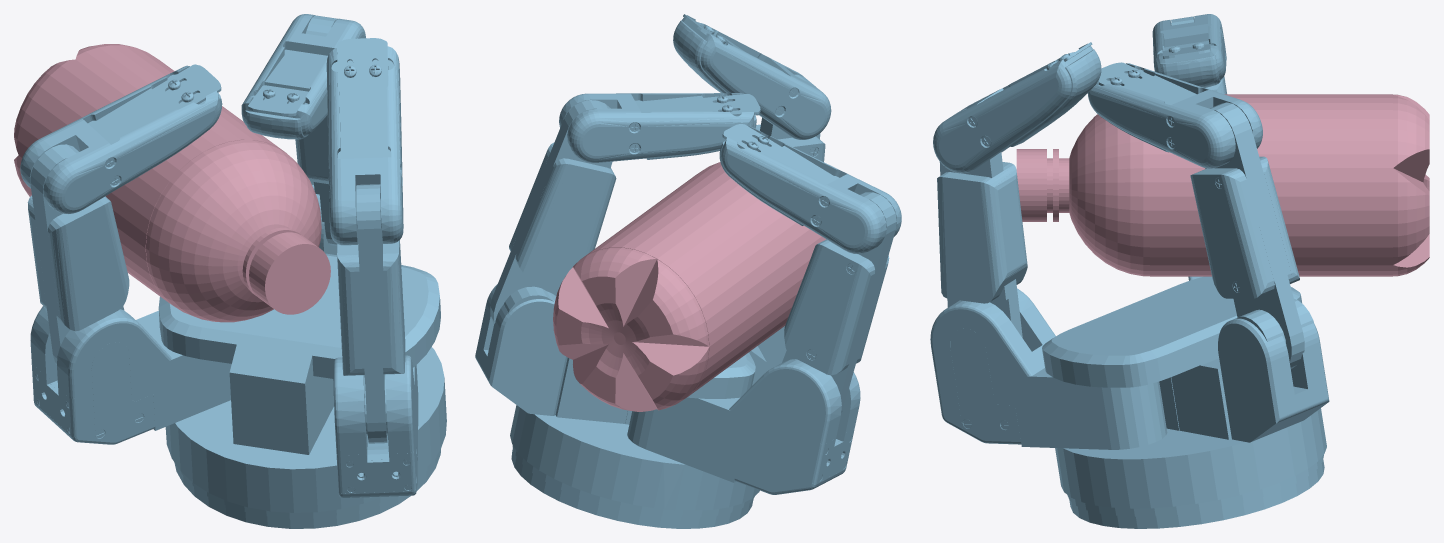
3 views of the same model, side by side, from view 1: azimuth 30°, elevation 25°; view 2: azimuth 150°, elevation 25°; view 3: azimuth 270°, elevation 25° (orthographic). The views are drawn at different scales.
Visible parts, largest first — view 1: world; view 2: world; view 3: world.
Part boxes in pixels (left/top/right/bottom): world: left=14, top=14, right=446, bottom=528; world: left=475, top=14, right=901, bottom=528; world: left=930, top=14, right=1429, bottom=528.
Size of the model in its own units: 0.1486 by 0.1679 by 0.1649.
